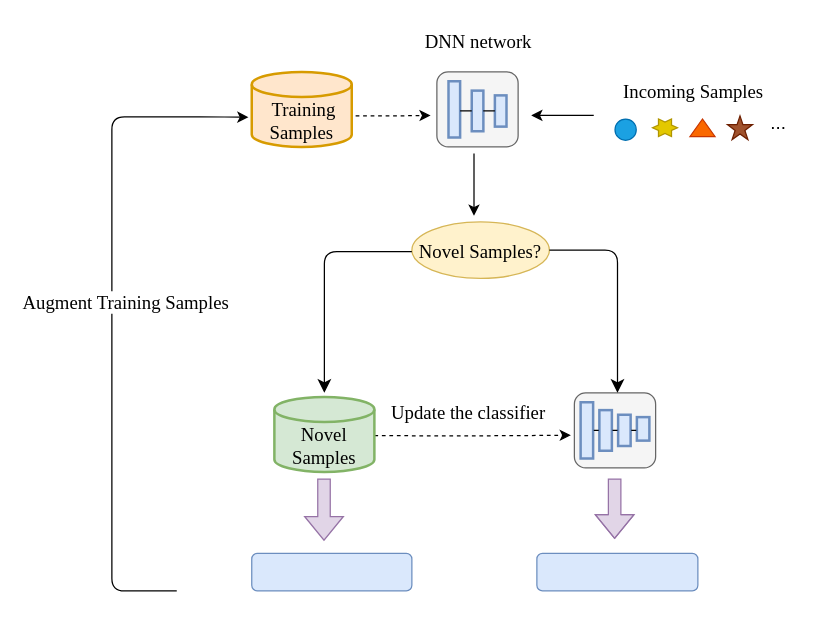
Image size: 824x623. Some labels were removed from this diagram. Each missing label, with the centre of its shape:
"Known class label" goes at point 617,571.
"Novel class label" goes at point 331,571.
